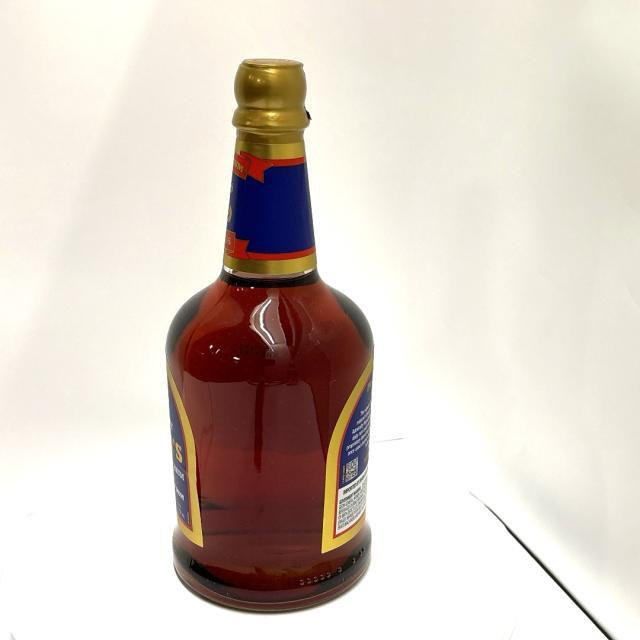PUSSER-S-RUM-750ML: (162, 55, 378, 615)
